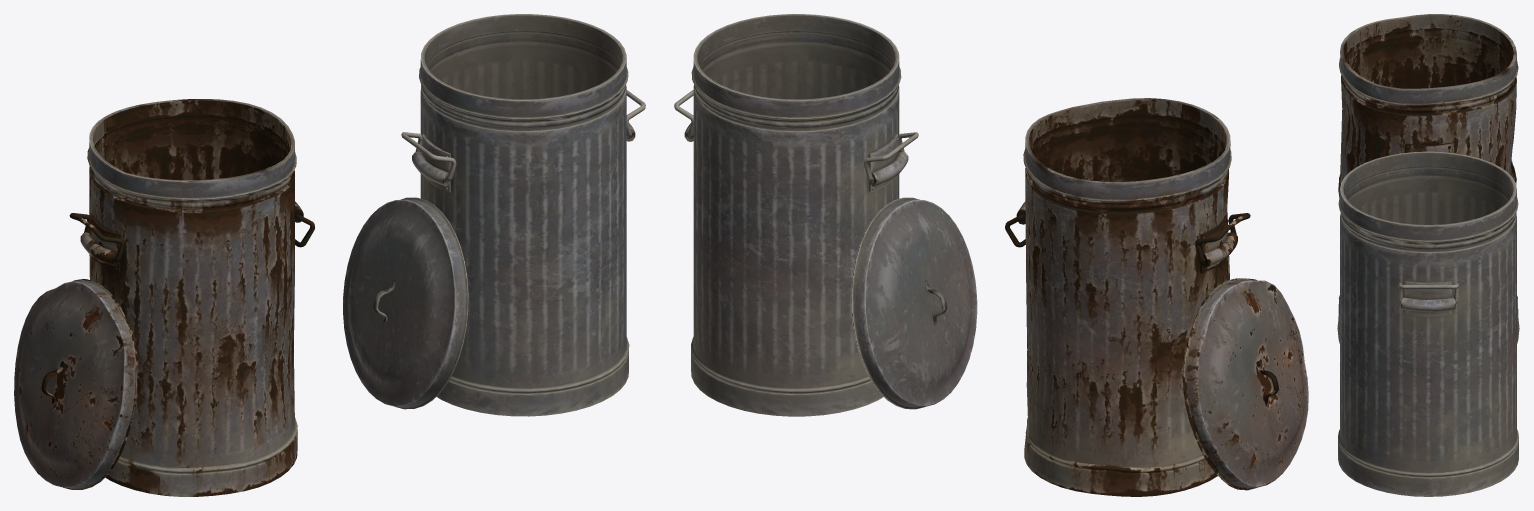
File: metal_trash_can.glb
3 renders of one model, left to right at view 1: azimuth 30°, elevation 25°; view 2: azimuth 150°, elevation 25°; view 3: azimuth 270°, elevation 25°, orthographic. The views are drawn at different scales.
Parts seen in each view (by area): view 1: metal_trash_can_handle_left, metal_trash_can_rust; view 2: metal_trash_can_handle_left, metal_trash_can_rust; view 3: metal_trash_can_handle_left, metal_trash_can_rust.
Part boxes in pixels (x1=…): metal_trash_can_handle_left: x1=343, y1=14, x2=645, y2=416; metal_trash_can_rust: x1=14, y1=99, x2=314, y2=496; metal_trash_can_handle_left: x1=674, y1=14, x2=977, y2=416; metal_trash_can_rust: x1=1005, y1=98, x2=1308, y2=496; metal_trash_can_handle_left: x1=1337, y1=151, x2=1519, y2=496; metal_trash_can_rust: x1=1338, y1=14, x2=1518, y2=317.
Bounding box in the file's own units: 1.78 × 0.9062 × 0.5543.
Materials: 2 (2 with a texture image).
